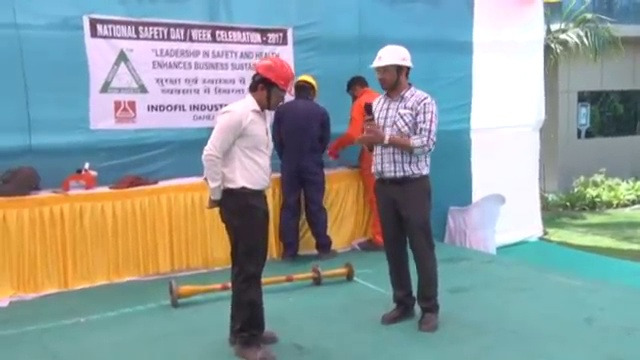helmet: (252, 54, 297, 94), (367, 41, 416, 71), (292, 73, 319, 94)
helmet_off: (345, 75, 370, 99)
helmet_on: (243, 53, 297, 116), (367, 40, 416, 102), (292, 73, 321, 105)
person: (199, 52, 296, 360), (358, 40, 441, 334), (274, 74, 338, 261), (328, 75, 386, 250)
